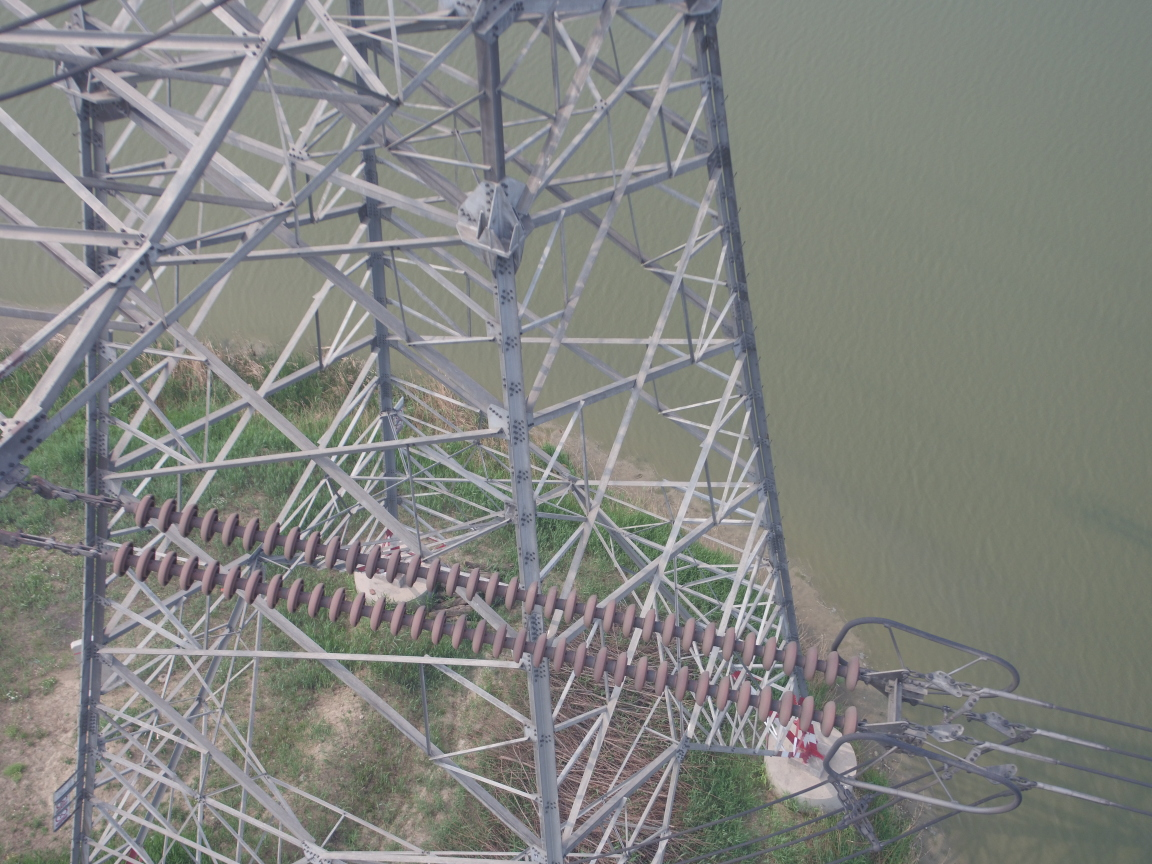insulator: (58, 485, 882, 741)
